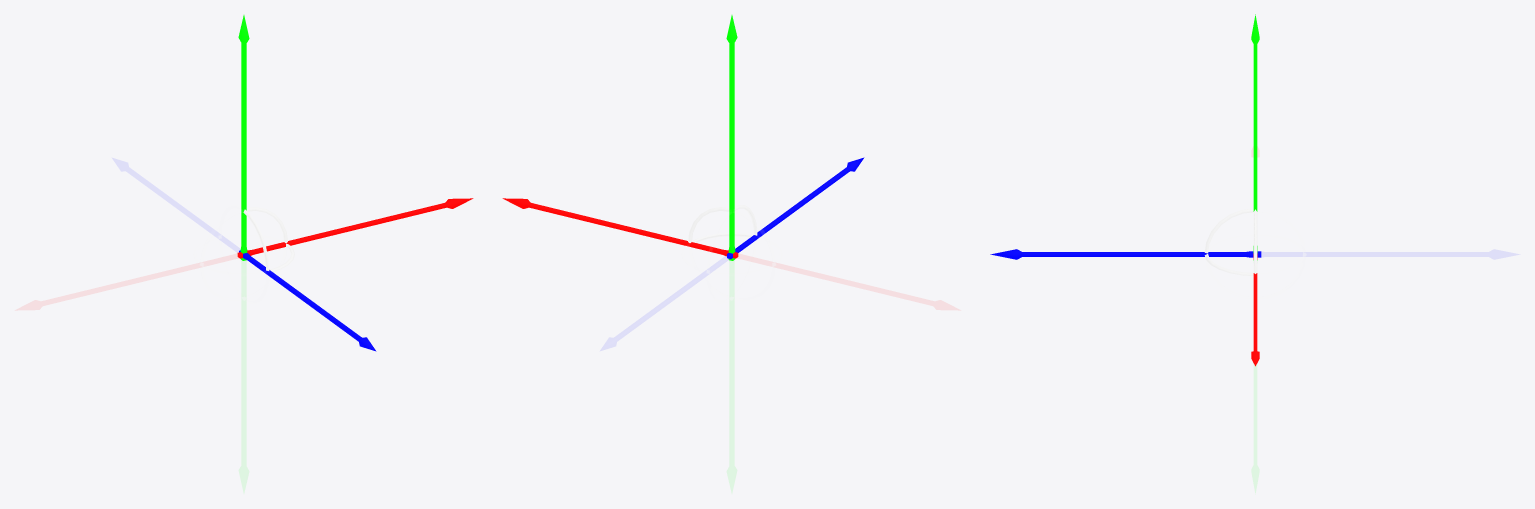
The model's file is gizmo.glb.
3 renders of one model, left to right at view 1: azimuth 30°, elevation 25°; view 2: azimuth 150°, elevation 25°; view 3: azimuth 270°, elevation 25°, orthographic.
Visible parts, largest first — view 1: ArrowY, ArrowX, ArrowZ; view 2: ArrowY, ArrowX, ArrowZ; view 3: ArrowZ, ArrowY.
Boxes of the visible parts, x1=… form: ArrowY: x1=238, y1=15, x2=249, y2=260; ArrowX: x1=237, y1=198, x2=473, y2=258; ArrowZ: x1=239, y1=250, x2=376, y2=351; ArrowY: x1=726, y1=15, x2=737, y2=260; ArrowX: x1=502, y1=198, x2=738, y2=258; ArrowZ: x1=727, y1=157, x2=864, y2=258; ArrowZ: x1=990, y1=249, x2=1261, y2=259; ArrowY: x1=1251, y1=14, x2=1259, y2=260.
Bounding box in the file's own units: 456 × 456 × 456.
